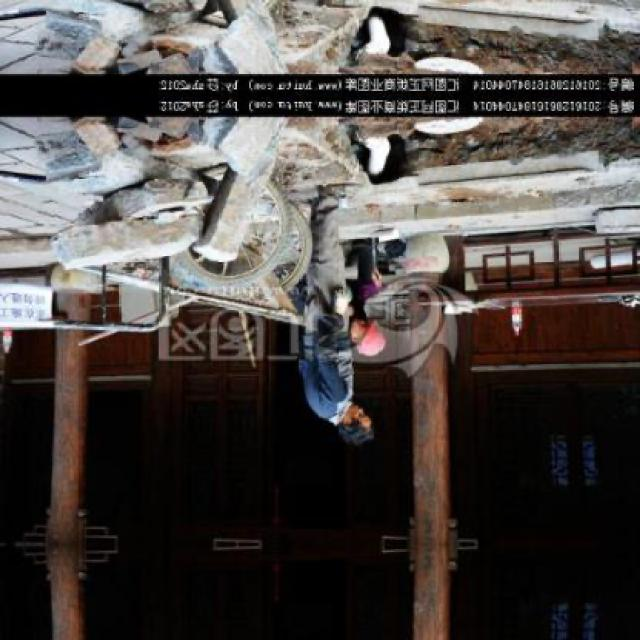sin casco: (330, 398, 384, 443)
